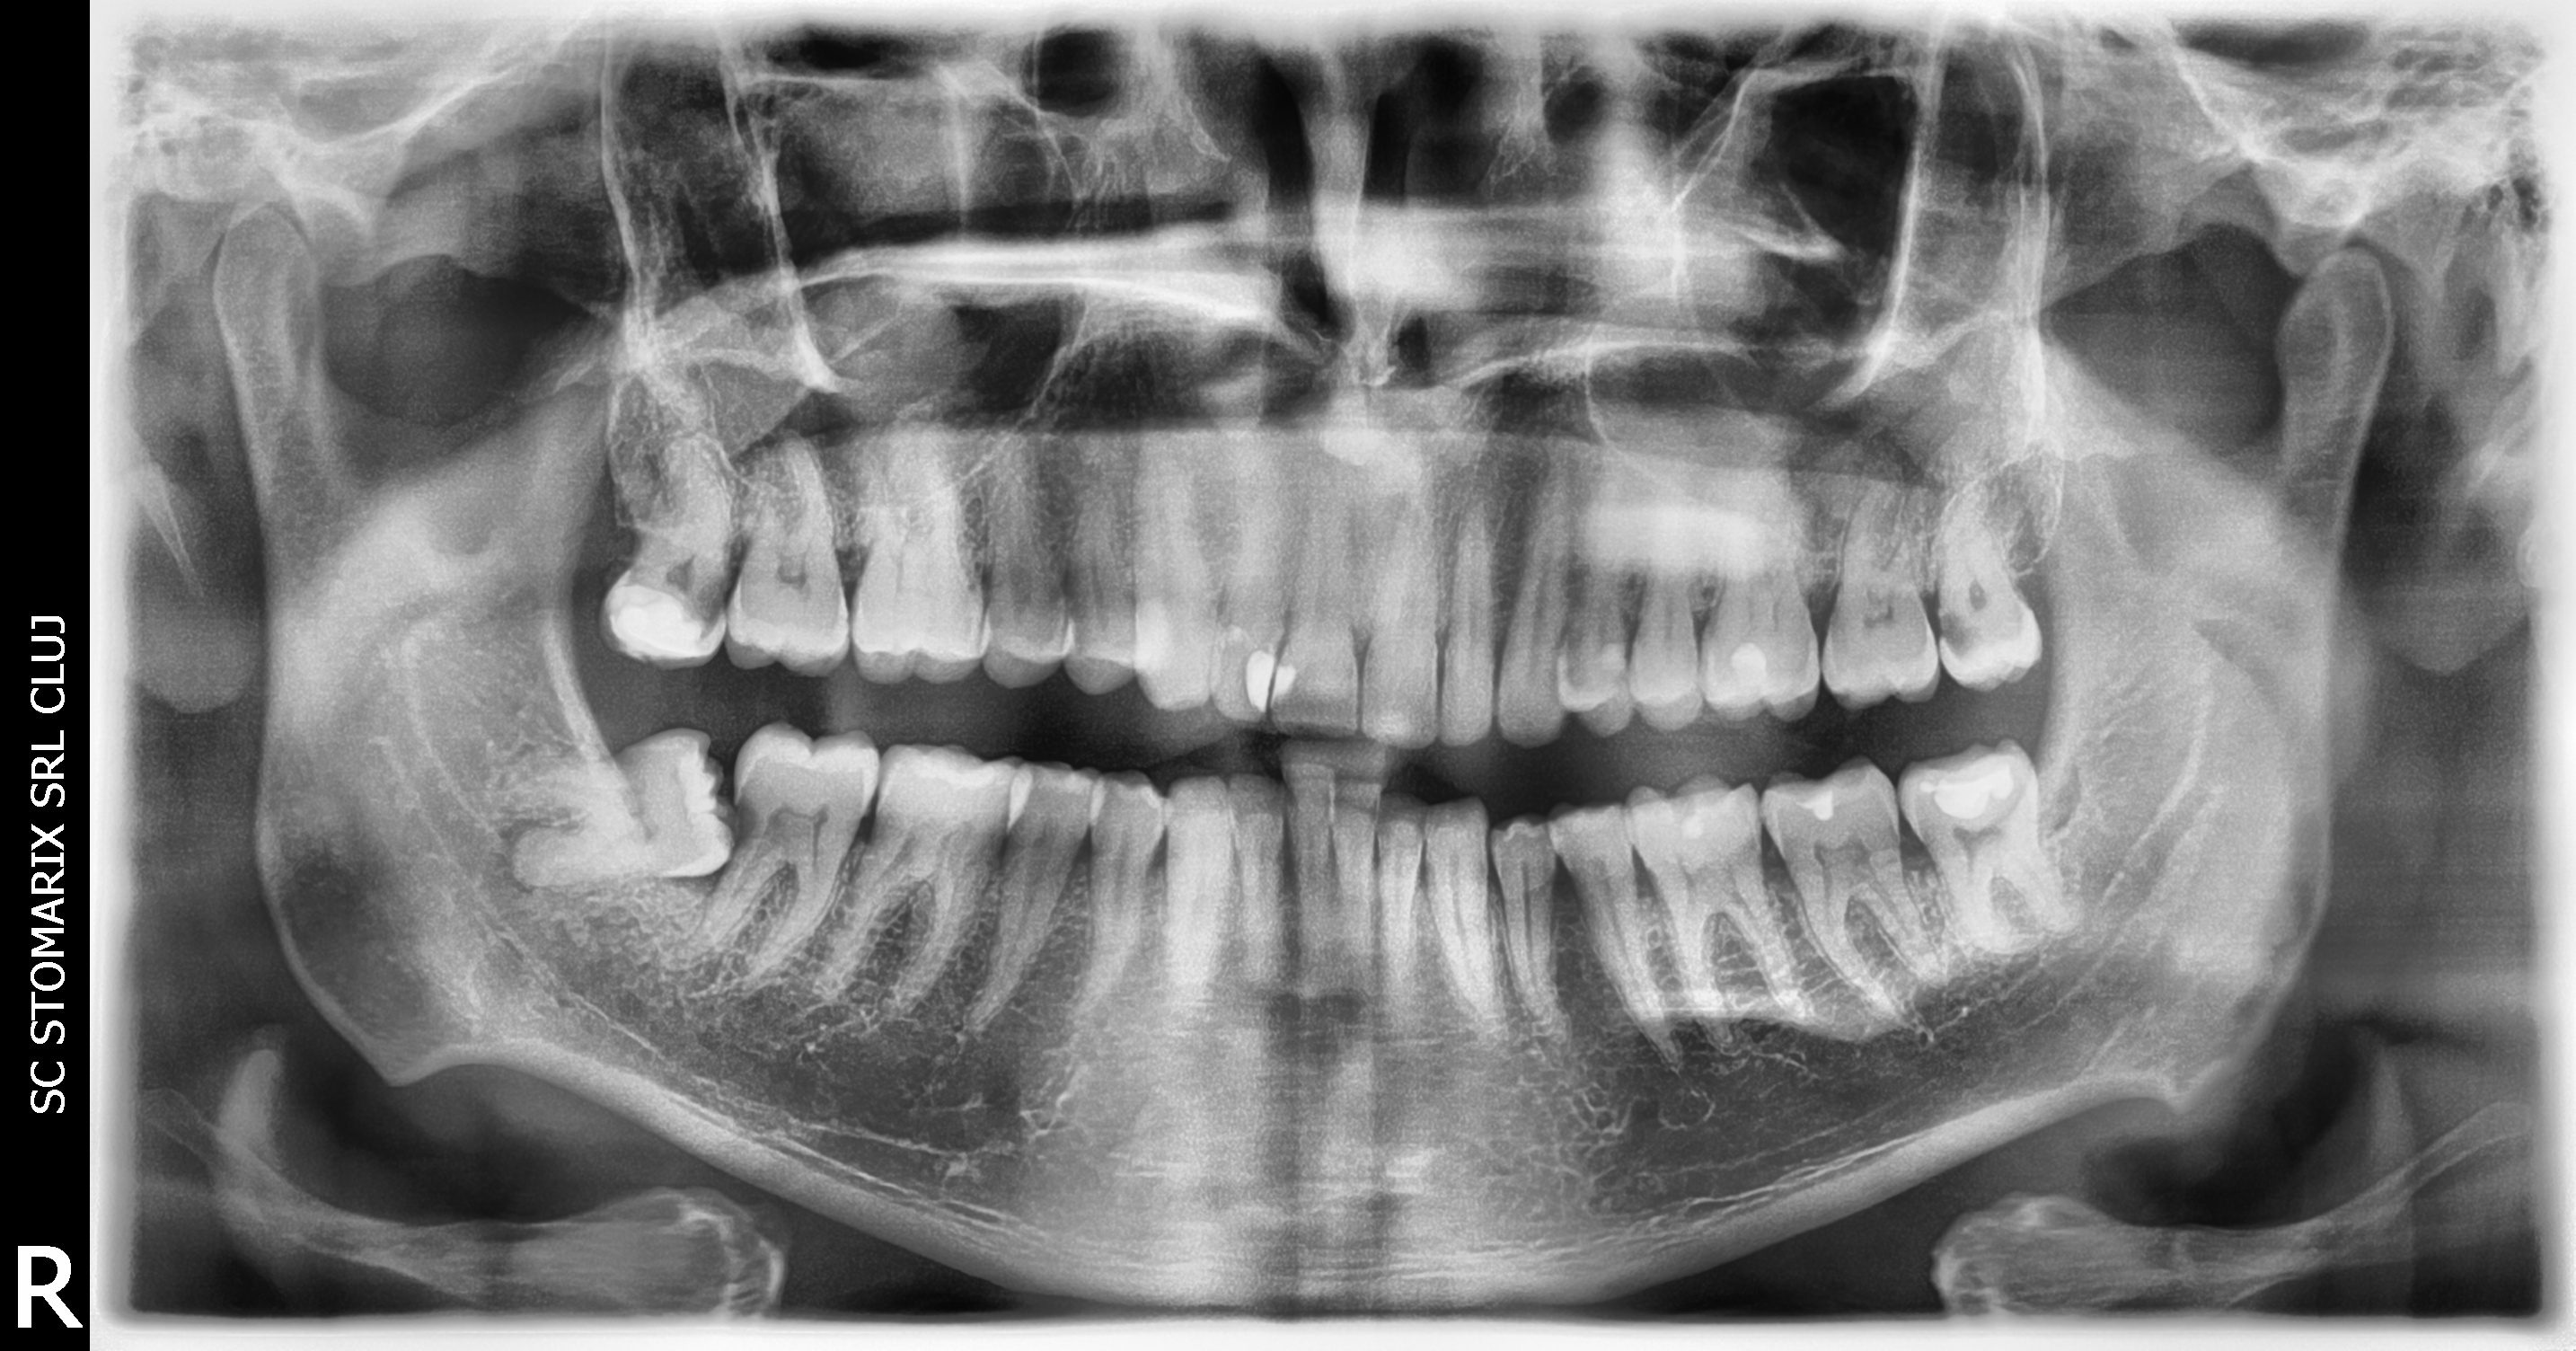CAR: (332, 252, 1058, 891)
IMT: (135, 279, 871, 1170)
OBT: (262, 259, 964, 911)
